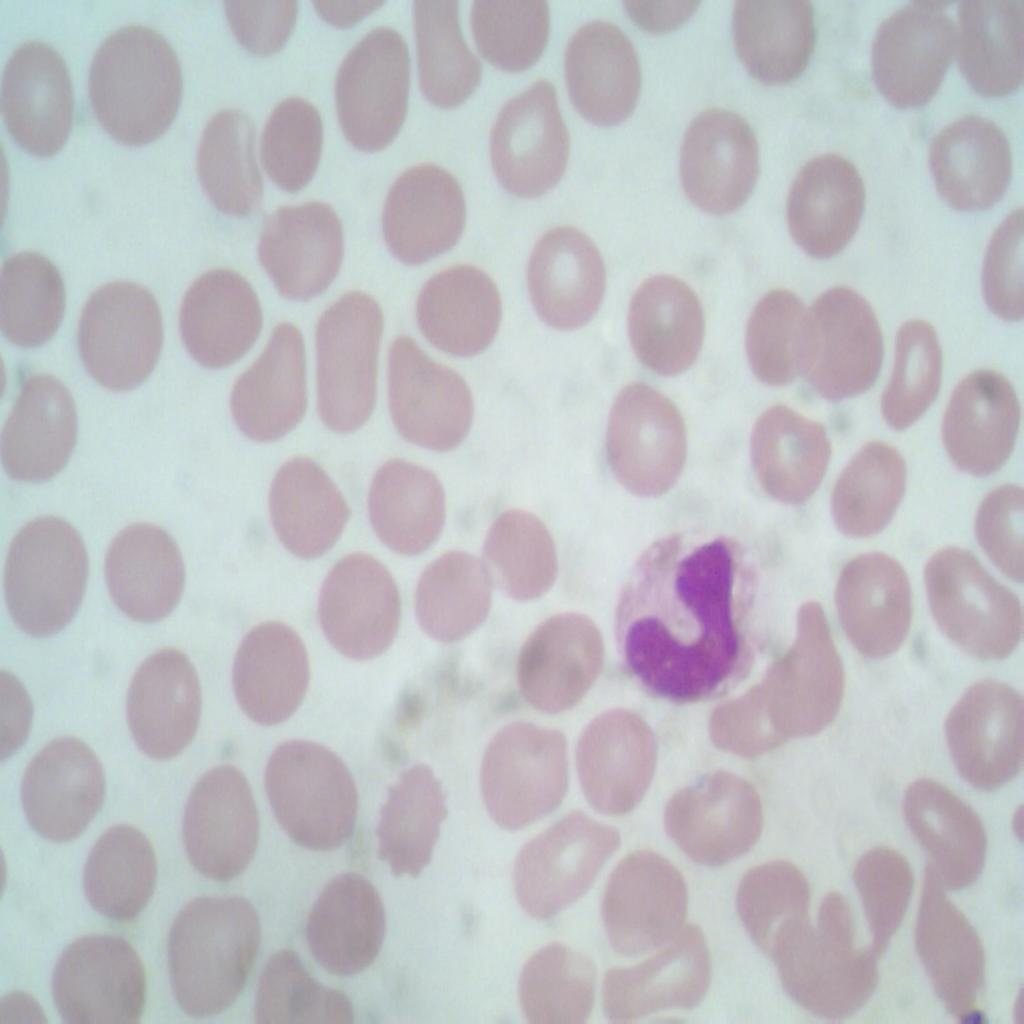Eritrosit: (918, 534, 1023, 672), (159, 895, 266, 1018), (81, 22, 184, 148), (516, 218, 615, 346), (594, 375, 688, 508), (0, 508, 88, 650), (772, 145, 870, 269), (374, 155, 472, 278), (769, 903, 871, 1021), (486, 79, 570, 221), (261, 737, 361, 856), (601, 917, 713, 1023), (720, 0, 838, 100), (222, 612, 320, 732), (329, 23, 416, 158), (928, 671, 1023, 794), (901, 770, 996, 891), (369, 759, 461, 882), (766, 604, 848, 741), (518, 811, 614, 928), (666, 761, 776, 862), (828, 538, 918, 660), (739, 272, 828, 394), (46, 922, 152, 1023), (75, 278, 164, 398), (221, 321, 309, 442), (678, 108, 762, 234), (798, 285, 889, 401), (562, 11, 639, 147), (0, 374, 90, 490), (308, 288, 381, 431), (181, 754, 263, 881), (18, 735, 110, 848), (619, 266, 711, 378), (922, 867, 988, 1023), (263, 452, 358, 557), (408, 544, 495, 658), (933, 112, 1019, 227), (302, 864, 390, 975), (878, 315, 958, 437), (99, 518, 191, 624), (384, 337, 471, 448), (511, 608, 601, 715), (0, 41, 78, 164), (601, 848, 695, 950), (403, 0, 479, 124), (312, 555, 398, 661), (938, 370, 1023, 477), (261, 186, 346, 292), (868, 0, 953, 106), (174, 261, 258, 368), (186, 104, 266, 216), (473, 719, 570, 811), (371, 452, 455, 557), (82, 812, 156, 931), (126, 648, 204, 760), (408, 262, 499, 358), (823, 438, 906, 541), (703, 671, 793, 765), (758, 398, 830, 512), (730, 837, 806, 944), (479, 508, 563, 602), (844, 832, 910, 951), (258, 90, 328, 200), (518, 922, 593, 1023), (462, 0, 552, 81), (942, 0, 1016, 98), (0, 247, 70, 348), (588, 707, 653, 811), (978, 478, 1024, 574)
Neutrofil: (613, 525, 775, 707)
